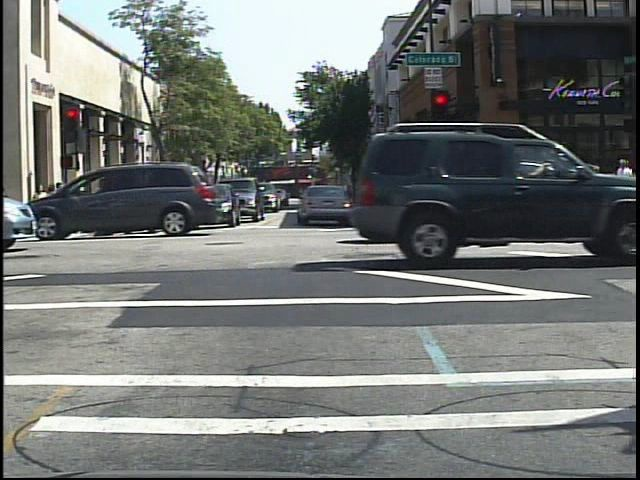person: (613, 152, 637, 223), (165, 181, 184, 221)
